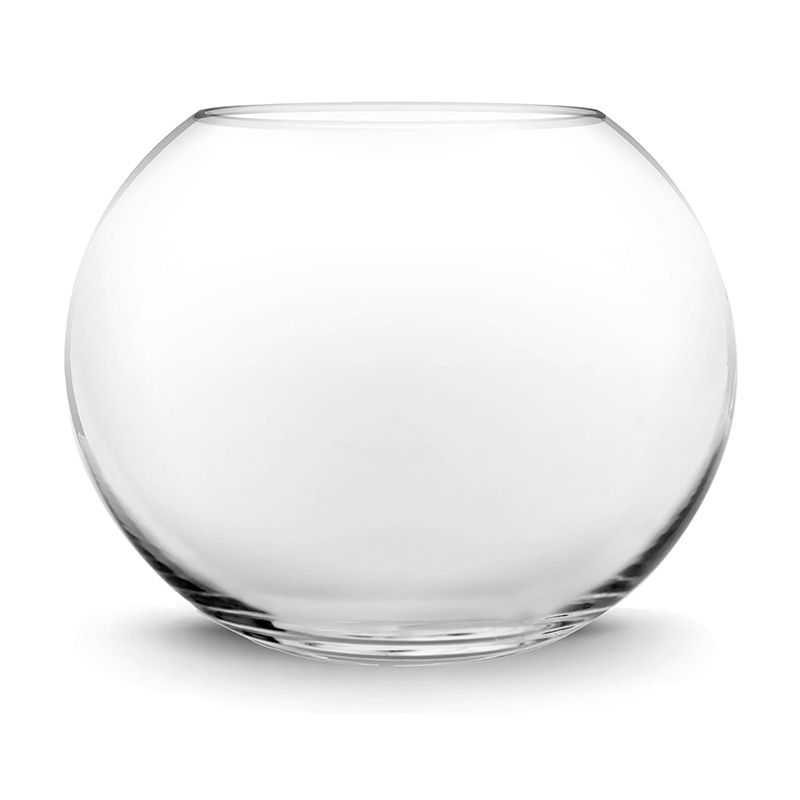glass: (63, 100, 737, 670)
